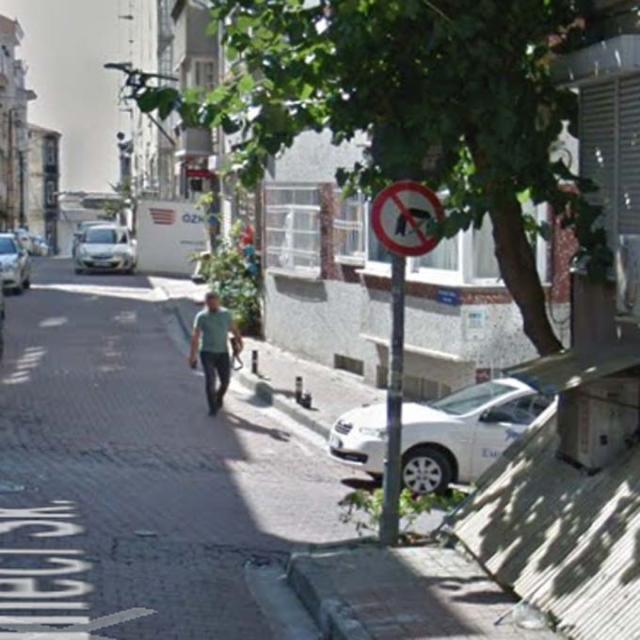sagadonulmez: (372, 186, 441, 257)
